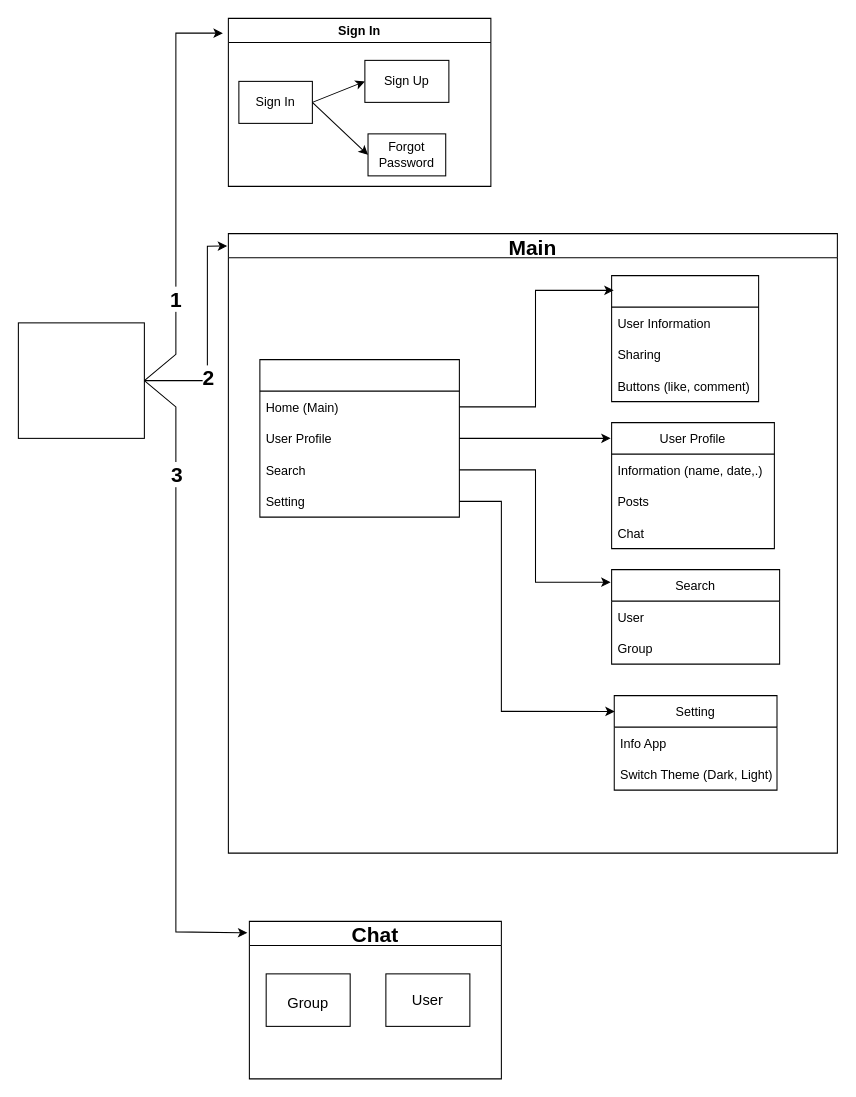
The diagram is 856 pixels wide and 1097 high, and some of its shapes have lost their labels. The box of each missing label's shape, as (x1, y1, x2, y2) in pixels:
Home (New feed): (611, 275, 759, 402)
Social Media App: (17, 322, 144, 438)
Tab Layout: (259, 359, 459, 517)
